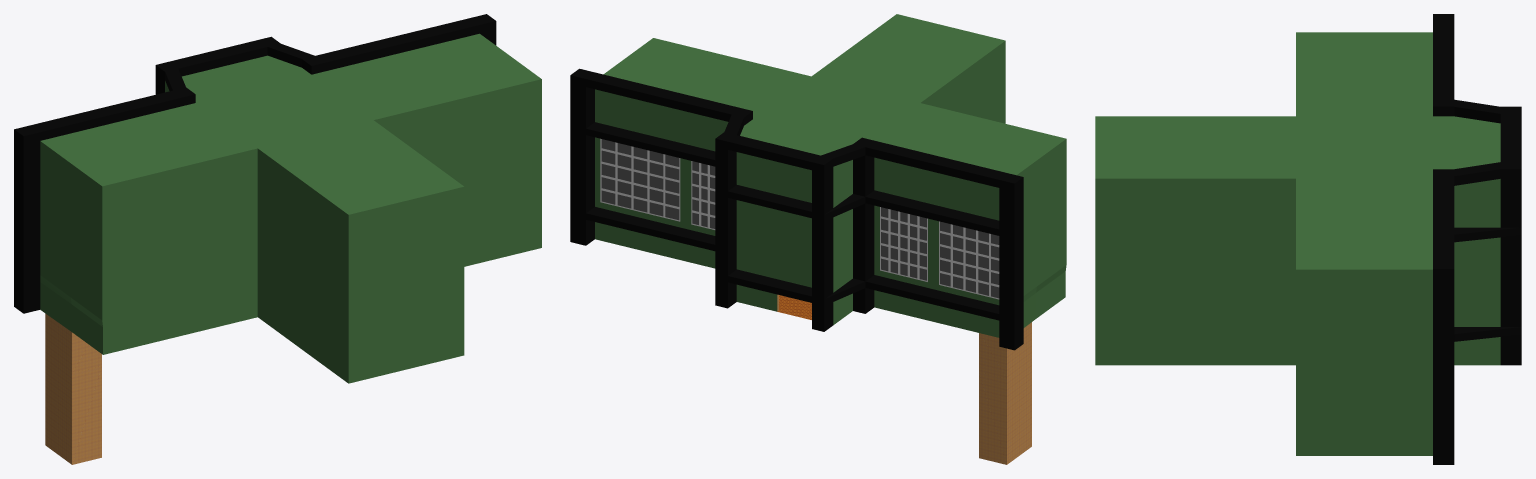
Rendered from NewIntroBuilding.fbx.
3 renders of one model, left to right at view 1: azimuth 30°, elevation 25°; view 2: azimuth 150°, elevation 25°; view 3: azimuth 270°, elevation 25°, orthographic. The views are drawn at different scales.
Visible parts, largest first — view 1: IntroBuilding; view 2: IntroBuilding; view 3: IntroBuilding.
Part boxes in pixels (box(x1,y1,x2,y2)): IntroBuilding: box(14, 14, 541, 464); IntroBuilding: box(570, 14, 1066, 464); IntroBuilding: box(1095, 14, 1521, 464).
Bounding box in the file's own units: 14284 × 9025 × 10101.
